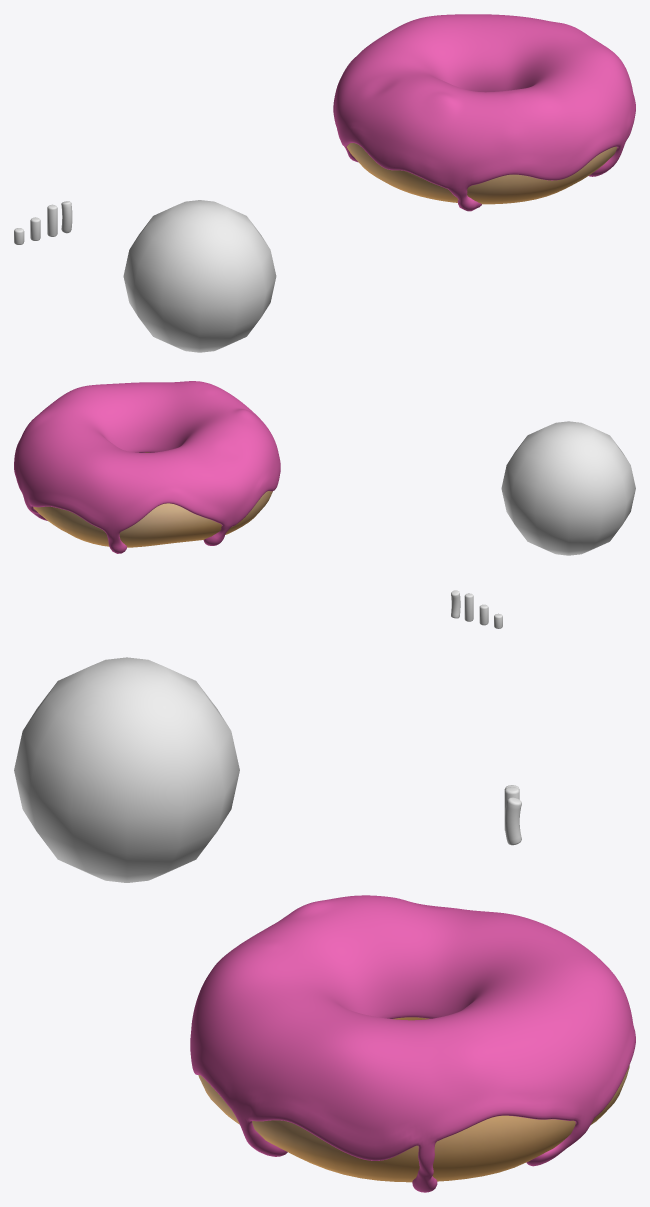
Rendered from Donut.fbx.
3 renders of one model, top to bottom at view 1: azimuth 30°, elevation 25°; view 2: azimuth 150°, elevation 25°; view 3: azimuth 270°, elevation 25°, orthographic. The views are drawn at different scales.
Parts seen in each view (by area): view 1: Icing, Sprinkle Ball, Donut; view 2: Icing, Sprinkle Ball, Donut; view 3: Icing, Sprinkle Ball, Donut.
Boxes of the visible parts, x1,y1,x2,y2 form: Icing: (333,14,635,211); Sprinkle Ball: (123,200,276,352); Donut: (346,143,617,204); Icing: (14,381,280,553); Sprinkle Ball: (501,421,635,555); Donut: (22,452,272,547); Icing: (190,895,635,1192); Sprinkle Ball: (14,657,239,882); Donut: (198,1017,629,1182).
Bounding box in the file's own units: 26.26 × 6 × 16.51.
